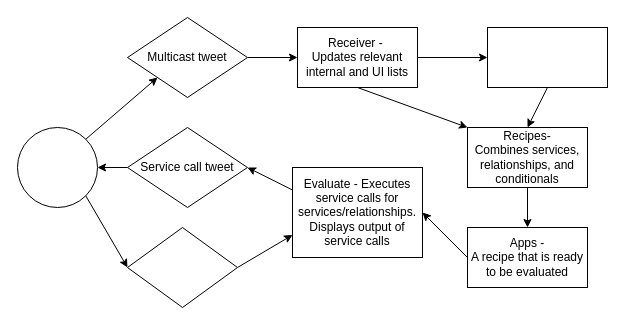
Image size: 625x325. Some labels were removed from this diagram. Each missing label, with the centre of its shape:
"Relationships Editor- Creates new relationships between existing services" belongs at (547,57).
"Service call response tweet" belongs at (182,267).
"Thing" belongs at (57,167).
